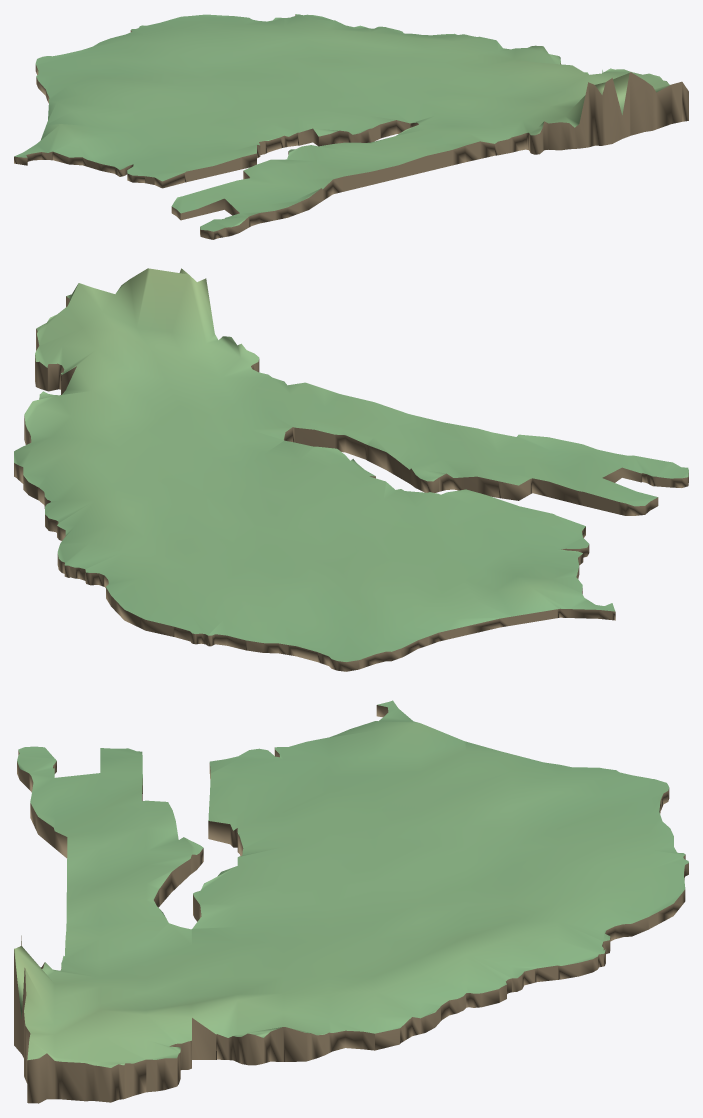
Rendered from SEN.glb.
3 renders of one model, top to bottom at view 1: azimuth 30°, elevation 25°; view 2: azimuth 150°, elevation 25°; view 3: azimuth 270°, elevation 25°, orthographic. The views are drawn at different scales.
Parts seen in each view (by area): view 1: SEN; view 2: SEN; view 3: SEN.
Boxes of the visible parts, box(x1,y1,x2,y2) form: SEN: box(14, 14, 688, 239); SEN: box(14, 268, 688, 671); SEN: box(14, 700, 688, 1103).
Size of the model in its own units: 1.54 by 0.1774 by 1.12.
